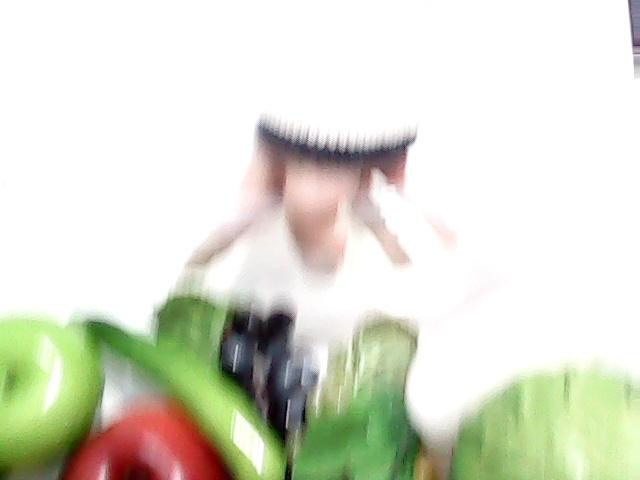apple: (44, 380, 220, 480), (3, 296, 101, 474)
cabbage: (454, 364, 640, 480)
grape: (224, 296, 326, 434)
pepper: (67, 311, 287, 480)
radish: (292, 288, 640, 480)
